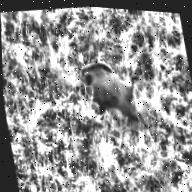boar: (64, 43, 143, 126)
